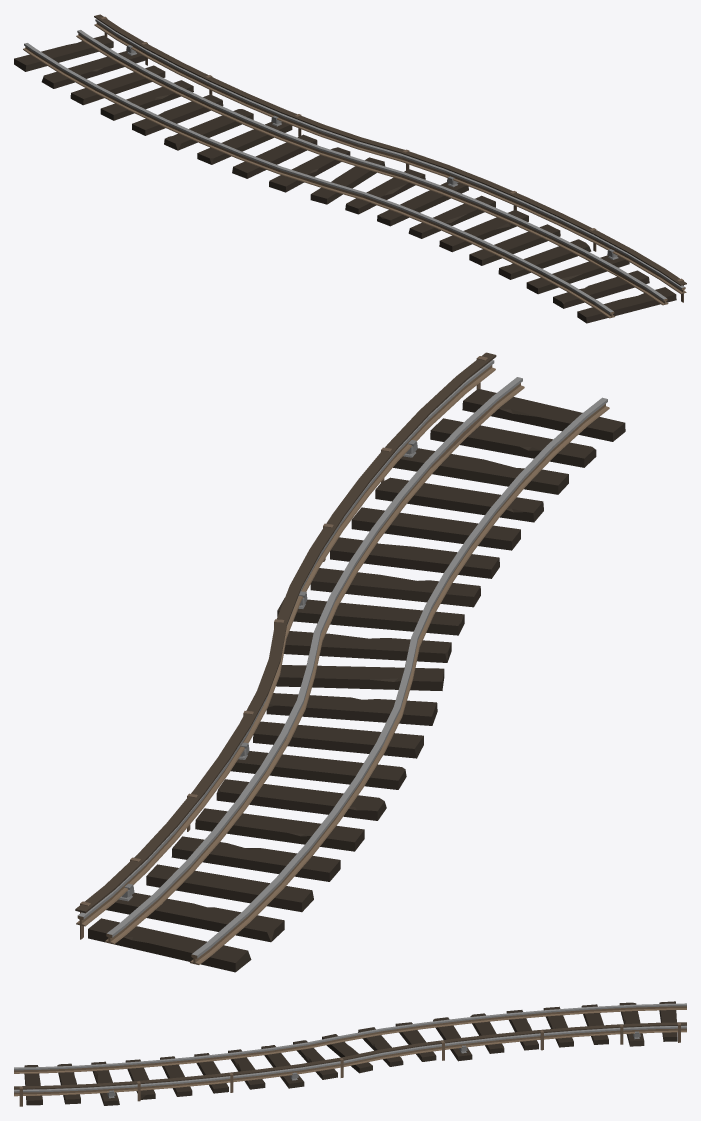
File: SW_ENV_Track_SingleJog_20m_Right.fbx
3 views of the same model, one above another, from view 1: azimuth 30°, elevation 25°; view 2: azimuth 150°, elevation 25°; view 3: azimuth 270°, elevation 25° (orthographic). The views are drawn at different scales.
Parts seen in each view (by area): view 1: SW_ENV_Track_SingleJog_20m_Right; view 2: SW_ENV_Track_SingleJog_20m_Right; view 3: SW_ENV_Track_SingleJog_20m_Right.
Part boxes in pixels (box(x1,y1,x2,y2)): SW_ENV_Track_SingleJog_20m_Right: box(14, 14, 686, 323); SW_ENV_Track_SingleJog_20m_Right: box(75, 352, 625, 972); SW_ENV_Track_SingleJog_20m_Right: box(14, 1001, 686, 1106).
Size of the model in its own units: 707 by 58.74 by 2000.
